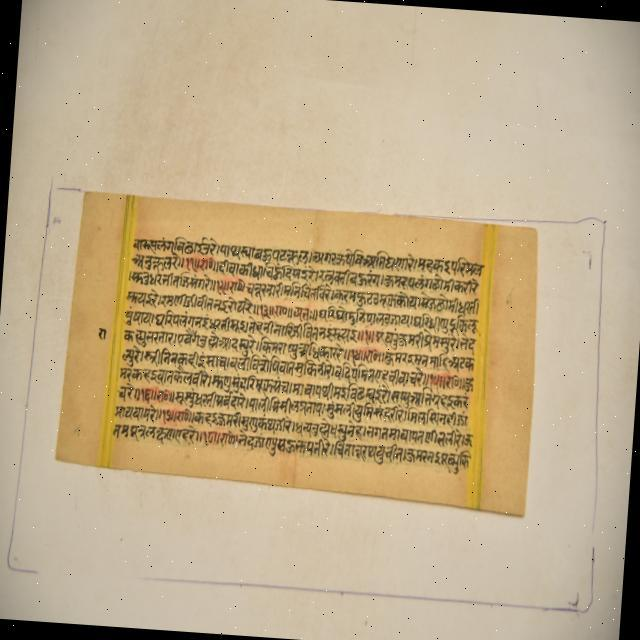text_paragraph: (54, 193, 534, 517)
